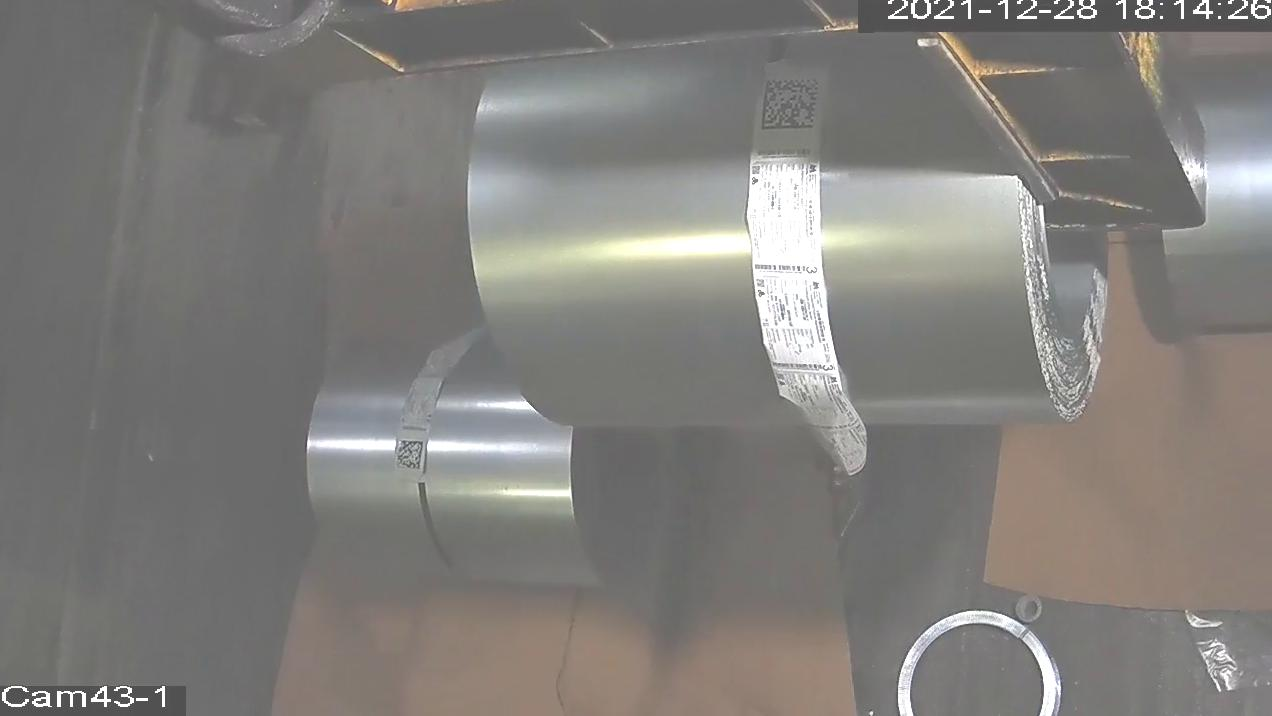data matrix: (760, 76, 823, 134), (394, 439, 427, 472)
